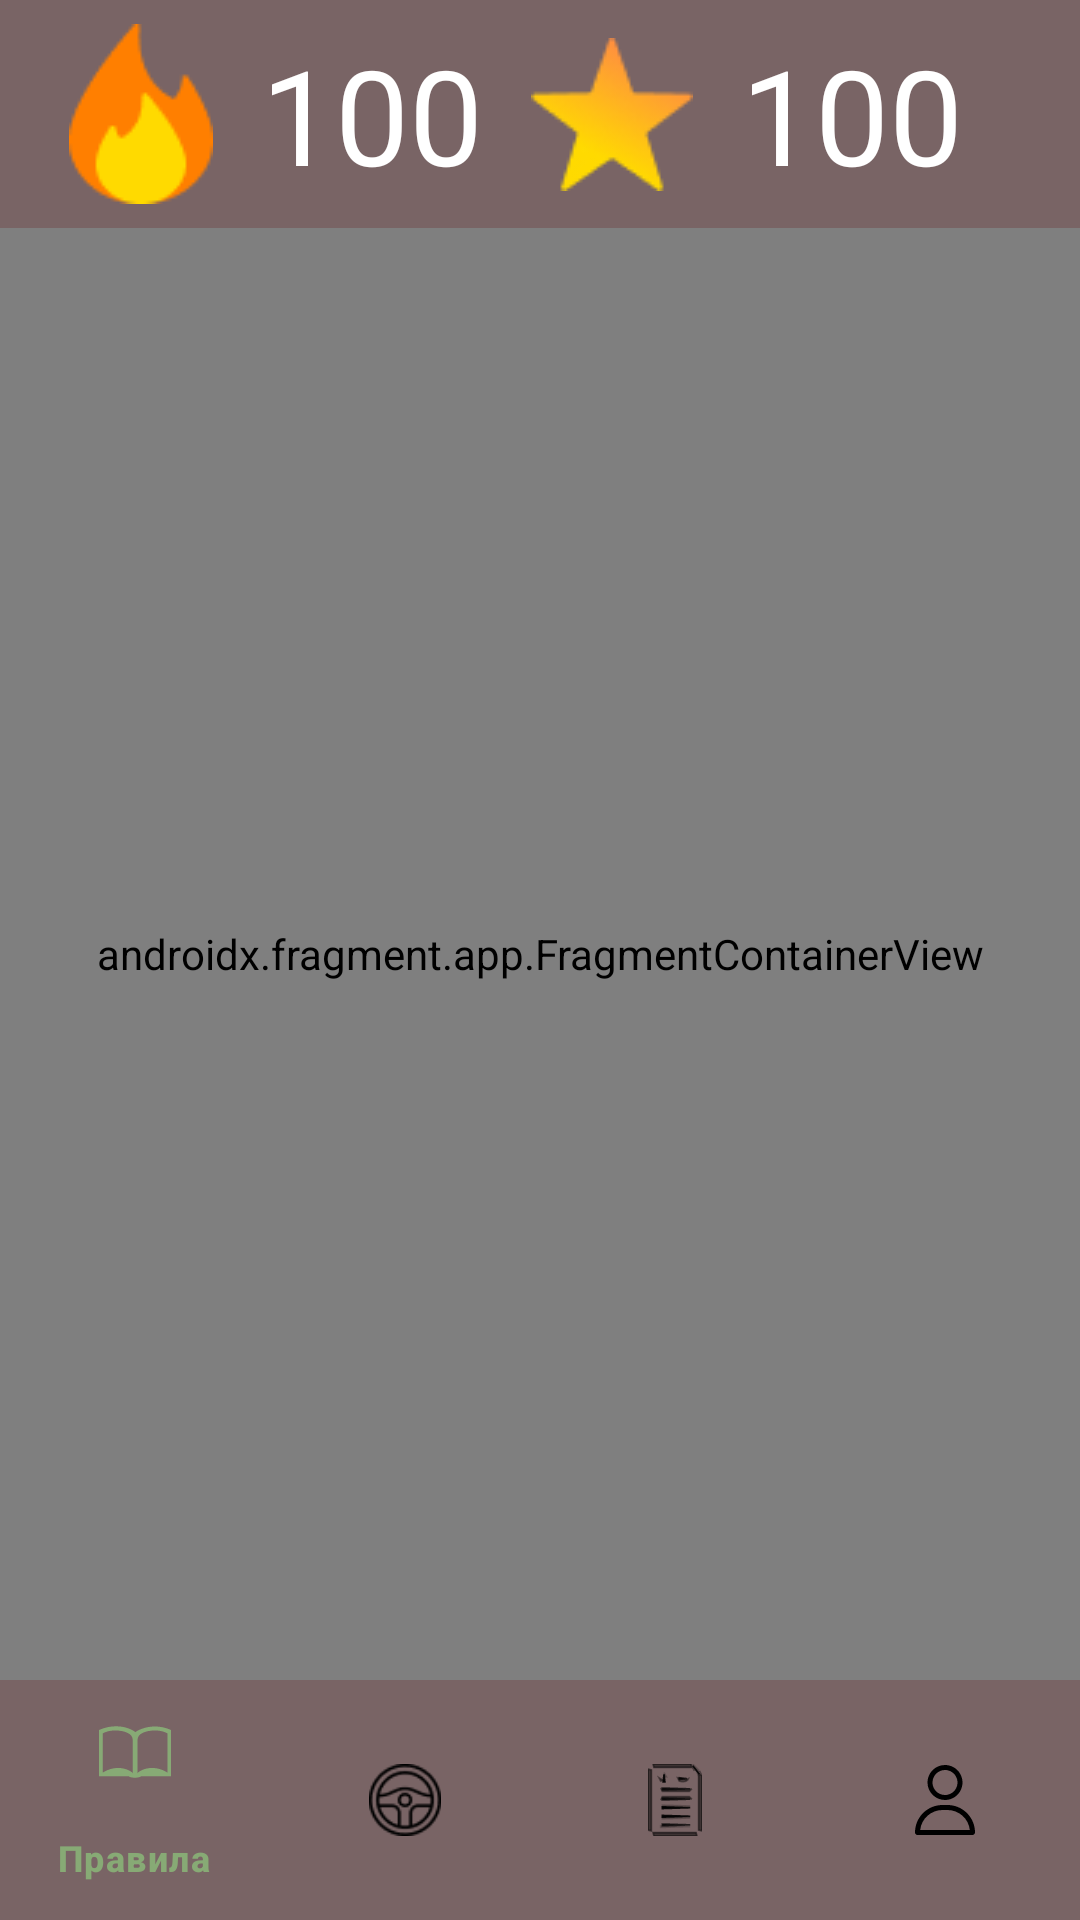

Icon click points for this 1080px×1920px phone screenshot, format (x=x, y=y):
flame: (x=141, y=114)
star: (x=612, y=114)
